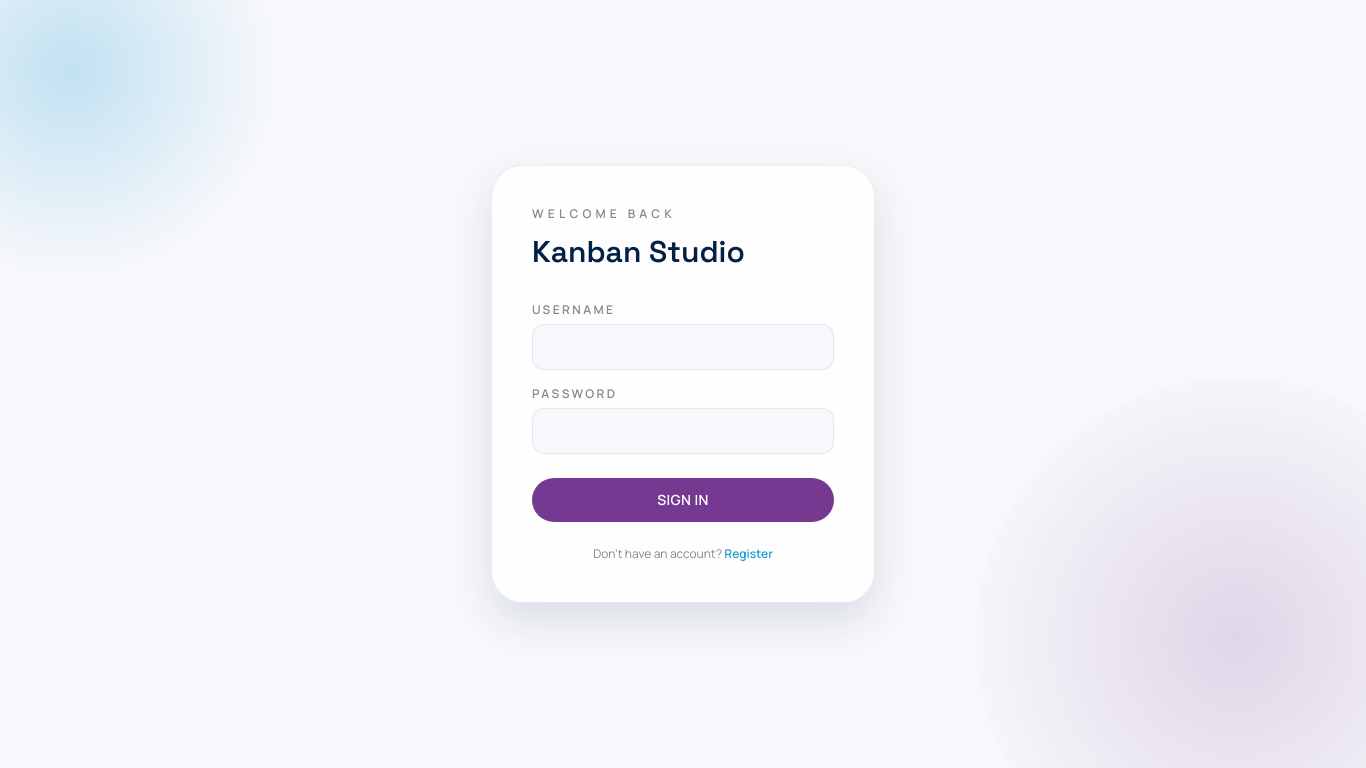
Test: LoginPage › shows register form when toggled
Click the button "Register": click(748, 554) [724,546,773,562]
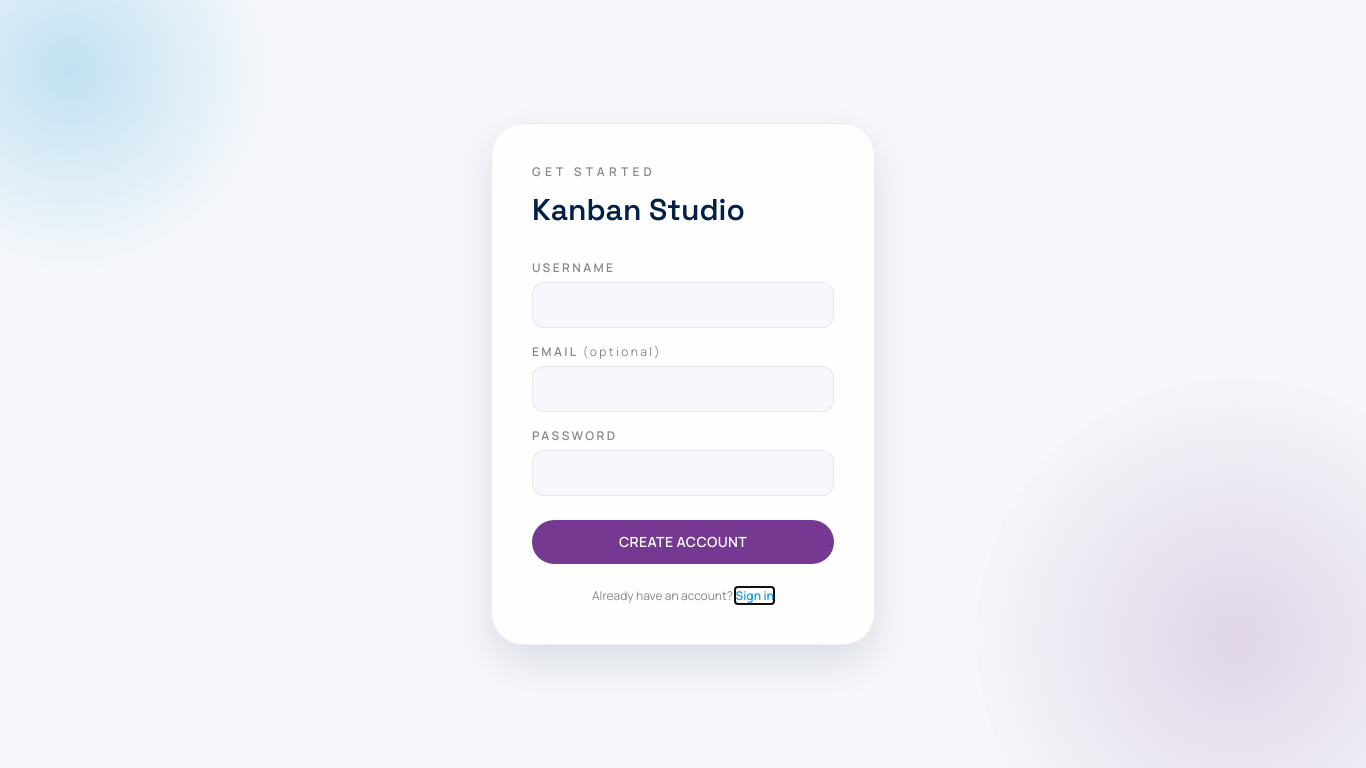
Check: the button "Create account" is shown, box [532,520,834,564]
Check: the field labelled "Email (optional)" is shown, box [532,366,834,412]
